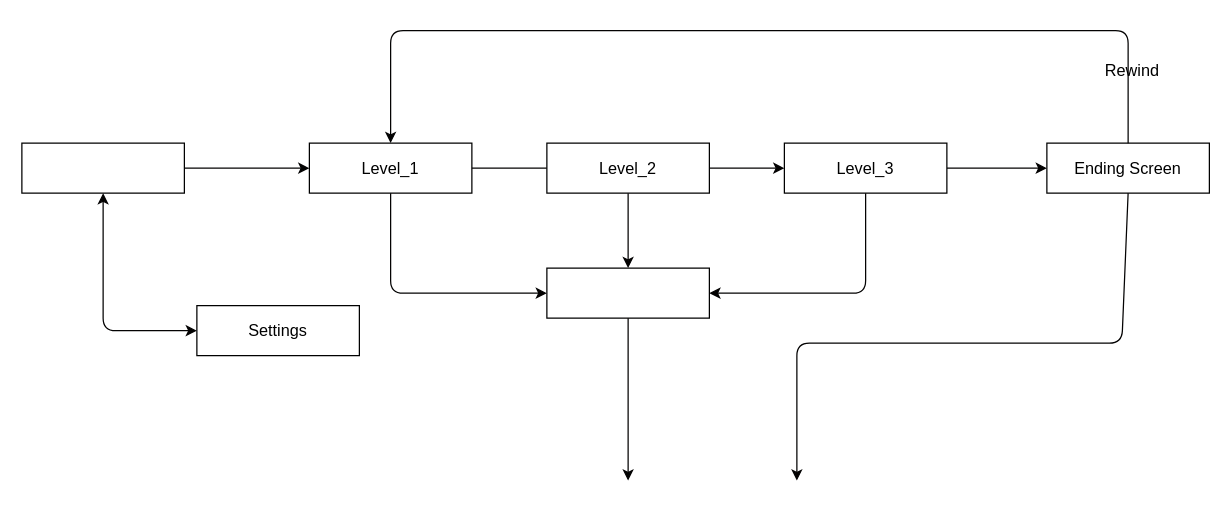
This 1231x513 diagram has some shape labels left out. Each missing label, with the centre of its shape:
"Losing Screen" goes at point 627,292.
"Menu" goes at point 102,167.
